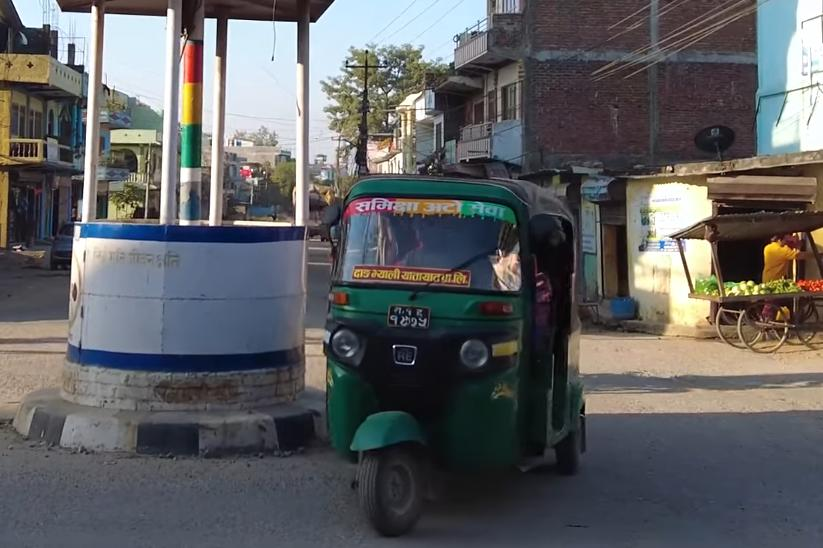auto_rickshaw: (322, 170, 594, 548)
